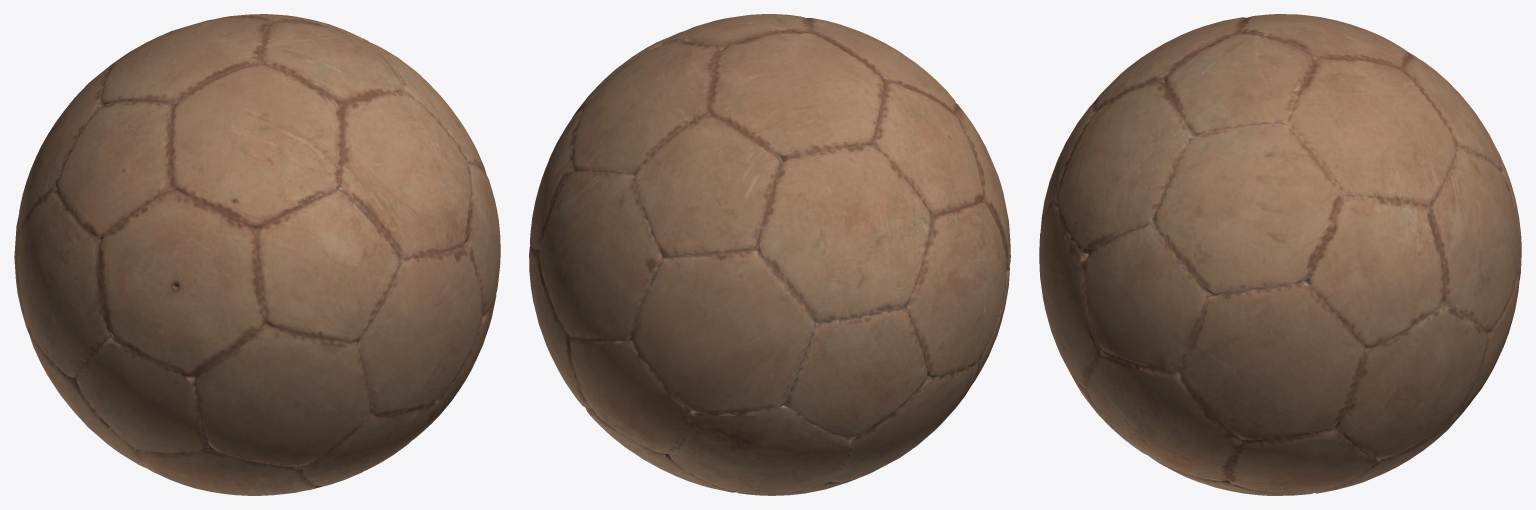
Rendered from ballon.gltf.
3 views of the same model, side by side, from view 1: azimuth 30°, elevation 25°; view 2: azimuth 150°, elevation 25°; view 3: azimuth 270°, elevation 25° (orthographic).
Visible parts, largest first — view 1: dirty_football_LOD1; view 2: dirty_football_LOD1; view 3: dirty_football_LOD1.
Part boxes in pixels (left/top/right/bottom): dirty_football_LOD1: left=14, top=14, right=500, bottom=495; dirty_football_LOD1: left=529, top=14, right=1010, bottom=495; dirty_football_LOD1: left=1039, top=14, right=1521, bottom=495.
Bounding box in the file's own units: 0.2214 × 0.22 × 0.22.
1 material, 1 textured.
